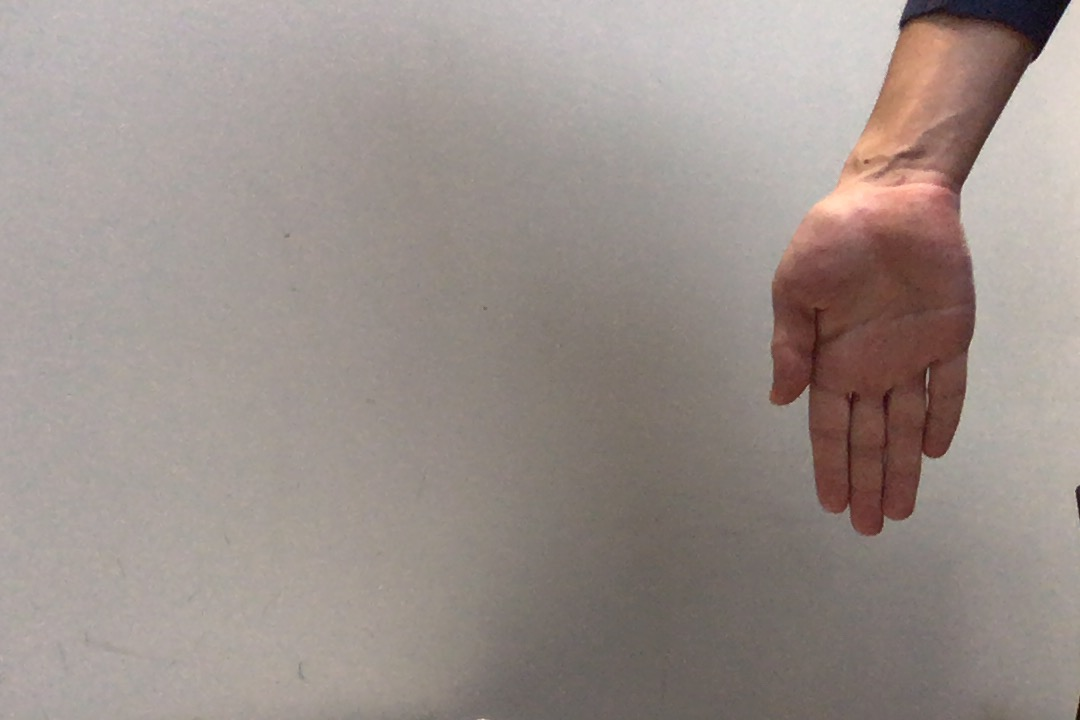palmhand: (765, 185, 978, 545)
